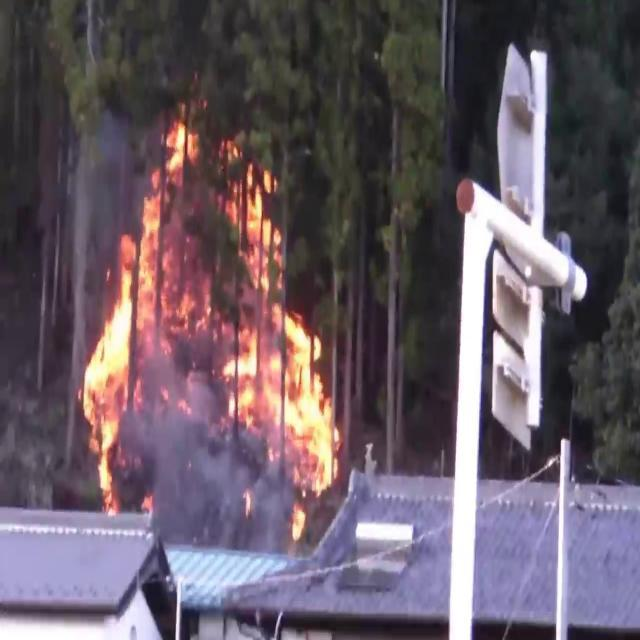Fire: (75, 110, 342, 512)
